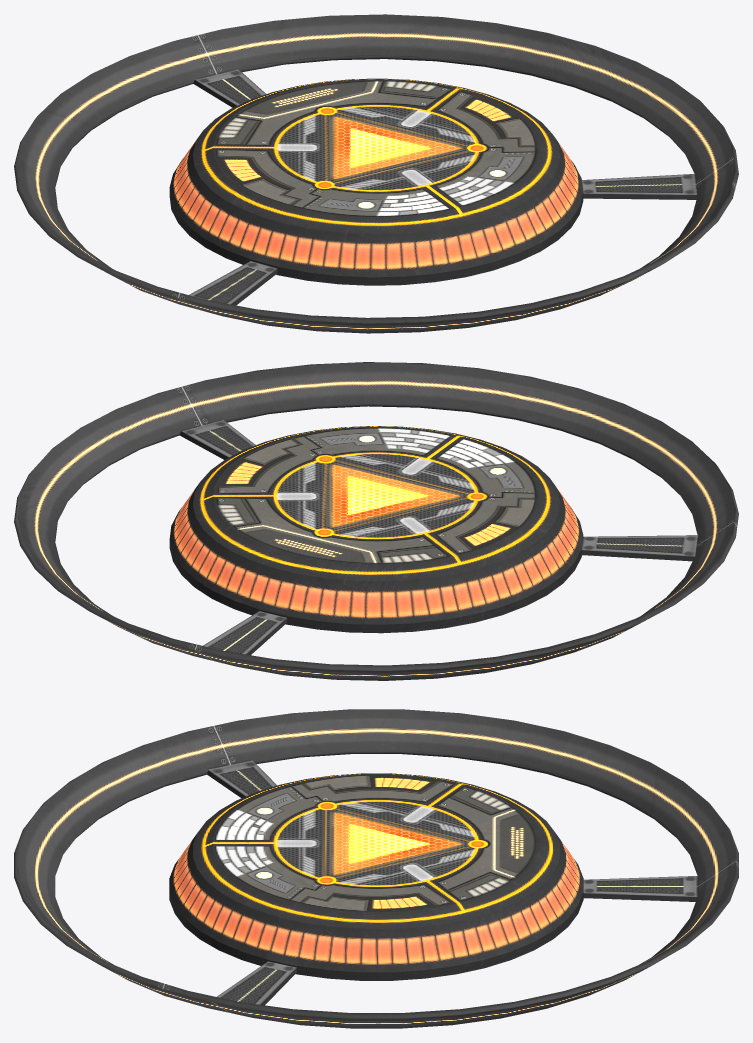
Rendered from FUT0410014.fbx.
3 renders of one model, top to bottom at view 1: azimuth 30°, elevation 25°; view 2: azimuth 150°, elevation 25°; view 3: azimuth 270°, elevation 25°, orthographic.
Visible parts, largest first — view 1: smFUT0410014; view 2: smFUT0410014; view 3: smFUT0410014.
Boxes of the visible parts, x1,y1,x2,y2 form: smFUT0410014: (14,14,738,333); smFUT0410014: (14,362,738,680); smFUT0410014: (14,709,738,1028).
Bounding box in the file's own units: 341 × 26 × 341.
Materials: 1 (1 with a texture image).
